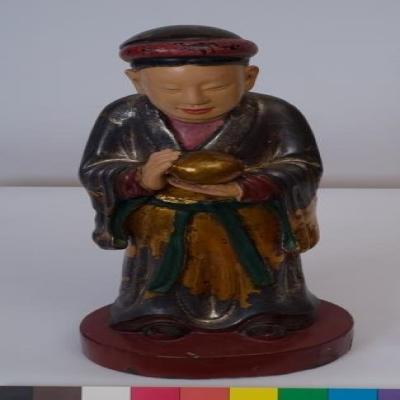sculpture: (77, 24, 354, 380)
